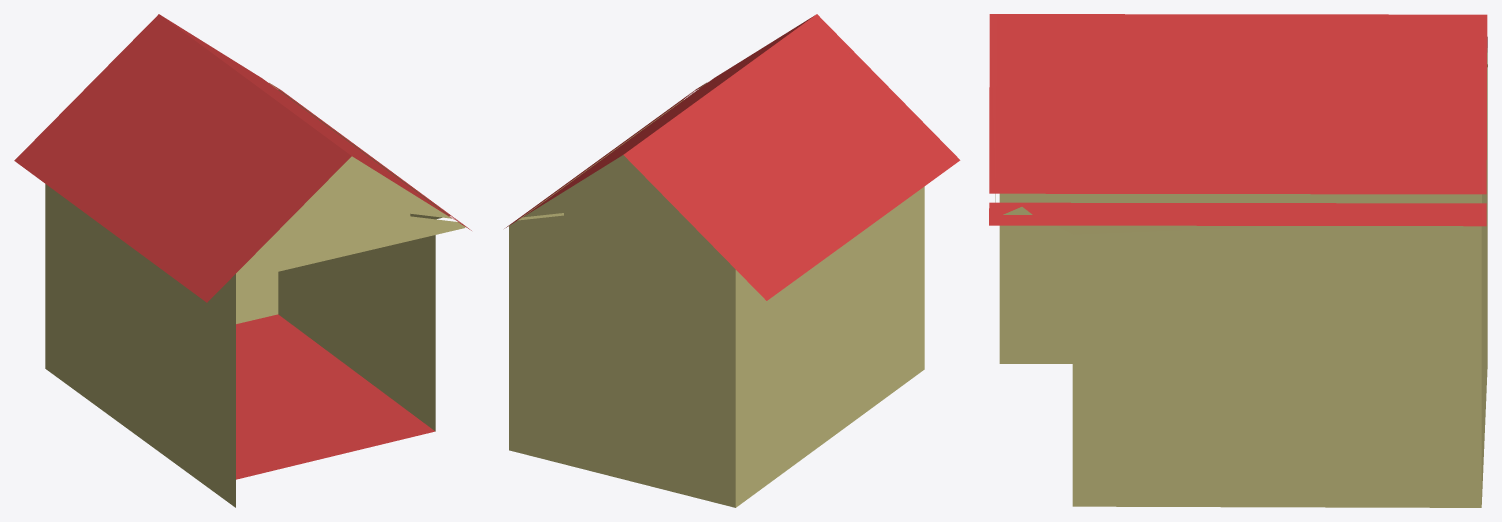
3 views of the same model, side by side, from view 1: azimuth 30°, elevation 25°; view 2: azimuth 150°, elevation 25°; view 3: azimuth 270°, elevation 25° (orthographic). The views are drawn at different scales.
Size of the model in its own units: 10.69 by 13.46 by 12.51.
